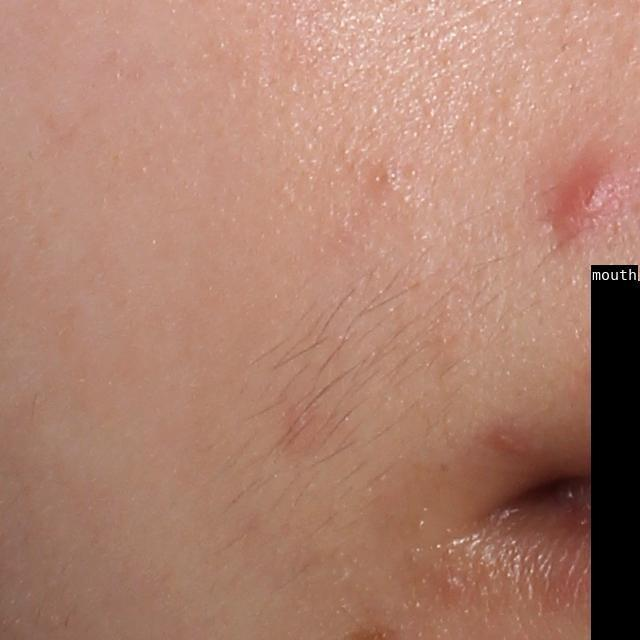papule: (552, 158, 624, 235), (491, 425, 524, 457)
